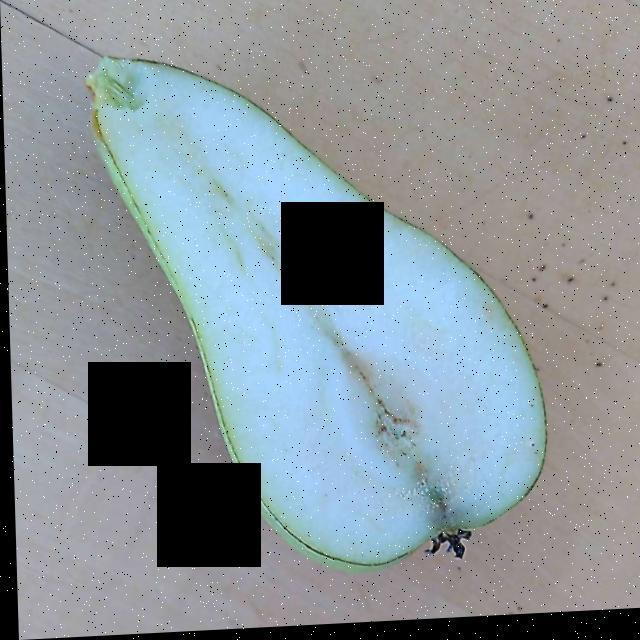pear: (106, 70, 539, 563)
